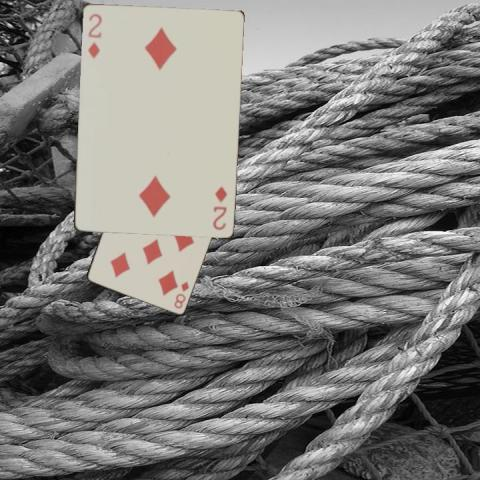2d: (209, 183, 228, 230), (84, 10, 102, 59)
8d: (170, 277, 190, 310)
